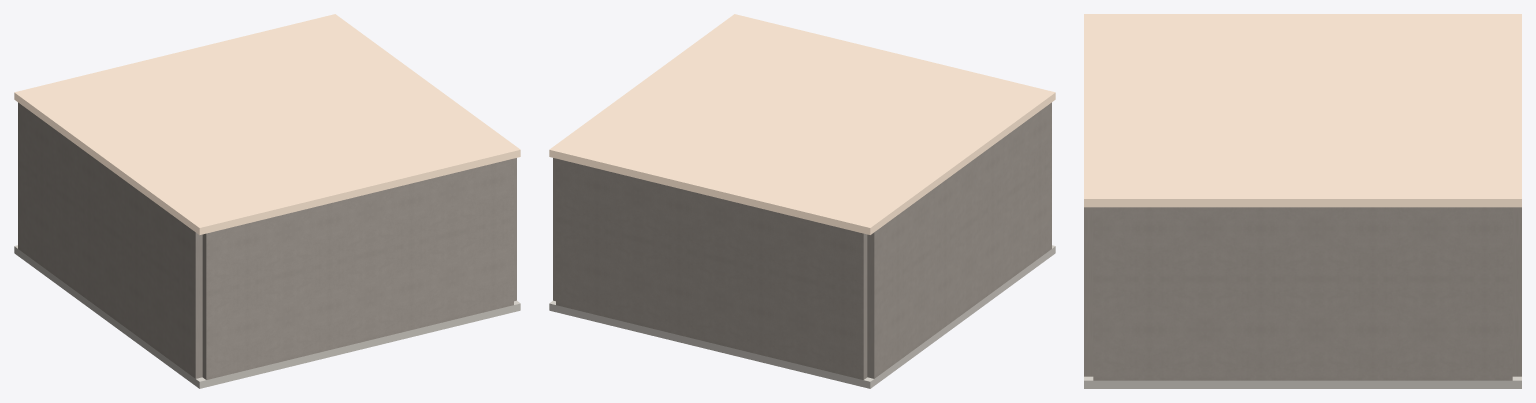
The model's file is room.glb.
3 renders of one model, left to right at view 1: azimuth 30°, elevation 25°; view 2: azimuth 150°, elevation 25°; view 3: azimuth 270°, elevation 25°, orthographic. The views are drawn at different scales.
Visible parts, largest first — view 1: wall (×2), ceiling, floor; view 2: wall (×2), ceiling, floor; view 3: ceiling, wall (×3), floor.
Part boxes in pixels (box(x1,y1,x2,y2)): wall (×2): box(18, 102, 513, 379); ceiling: box(14, 14, 520, 234); floor: box(14, 245, 520, 388); wall (×2): box(556, 102, 1051, 379); ceiling: box(549, 14, 1055, 234); floor: box(549, 245, 1055, 388); ceiling: box(1084, 14, 1521, 207); wall (×3): box(1084, 207, 1521, 380); floor: box(1084, 376, 1521, 388).
Size of the model in its own units: 9.4 by 4.5 by 9.4.
41 materials, 12 textured.
